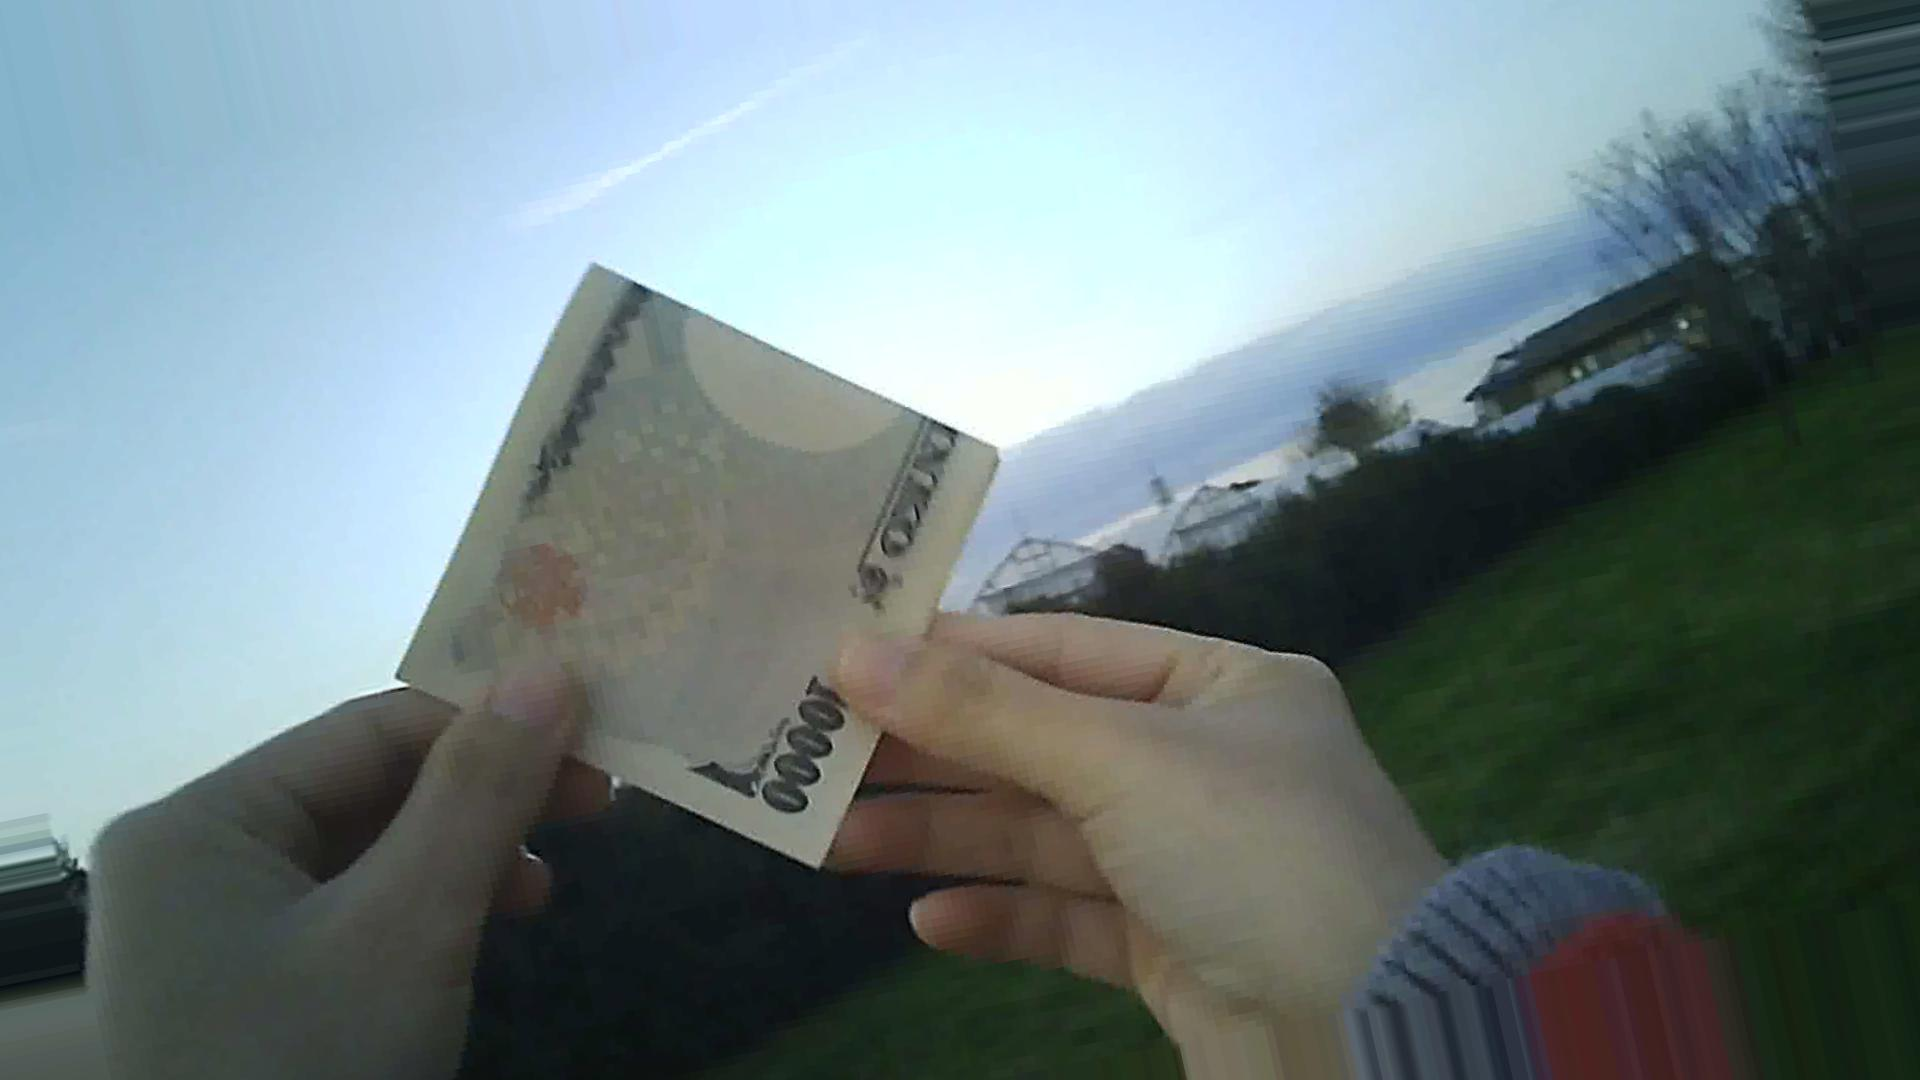10,000 Yen: (398, 243, 1004, 902)
